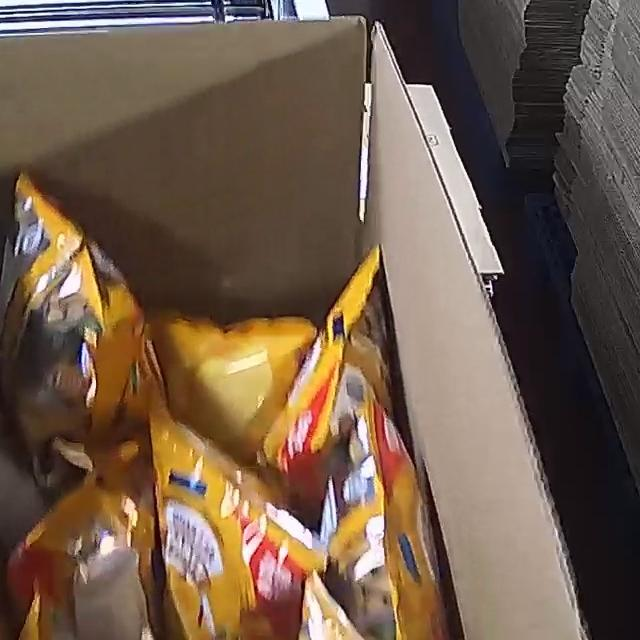cheese: (0, 160, 460, 640)
